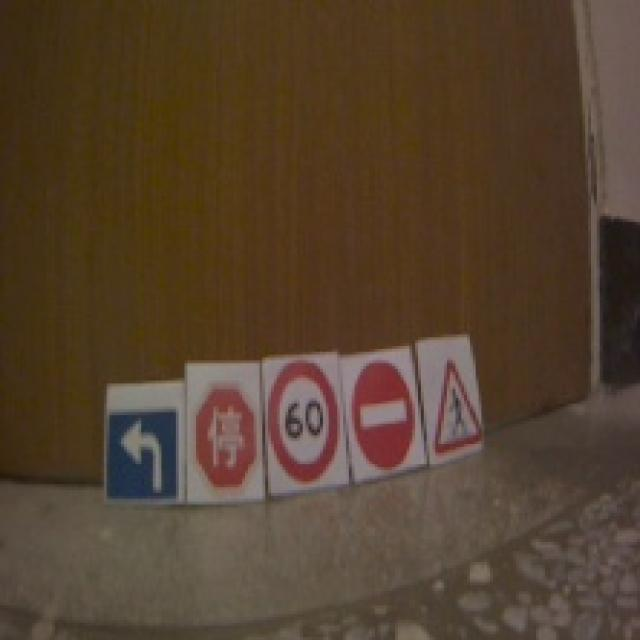DoNotEnterSign: (354, 358, 416, 470)
